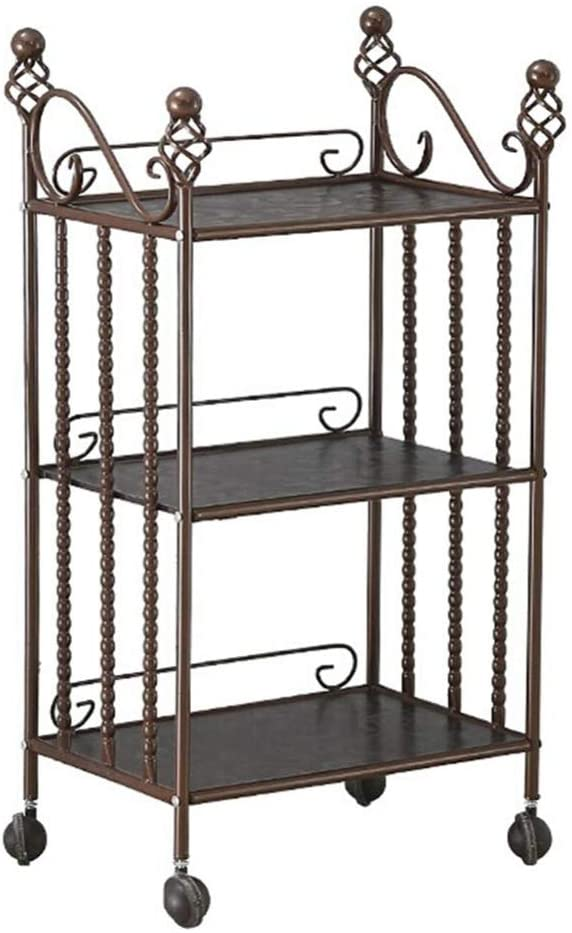Carts: (2, 7, 563, 929)
